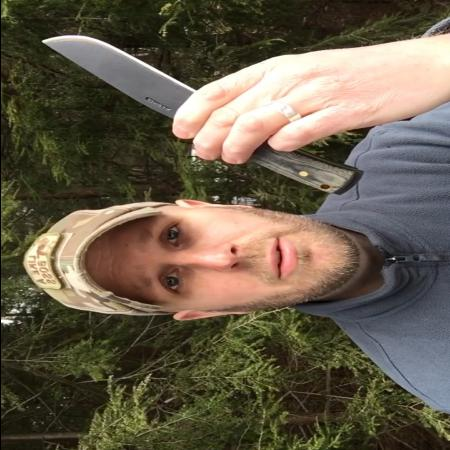long weapon: (32, 30, 270, 166)
